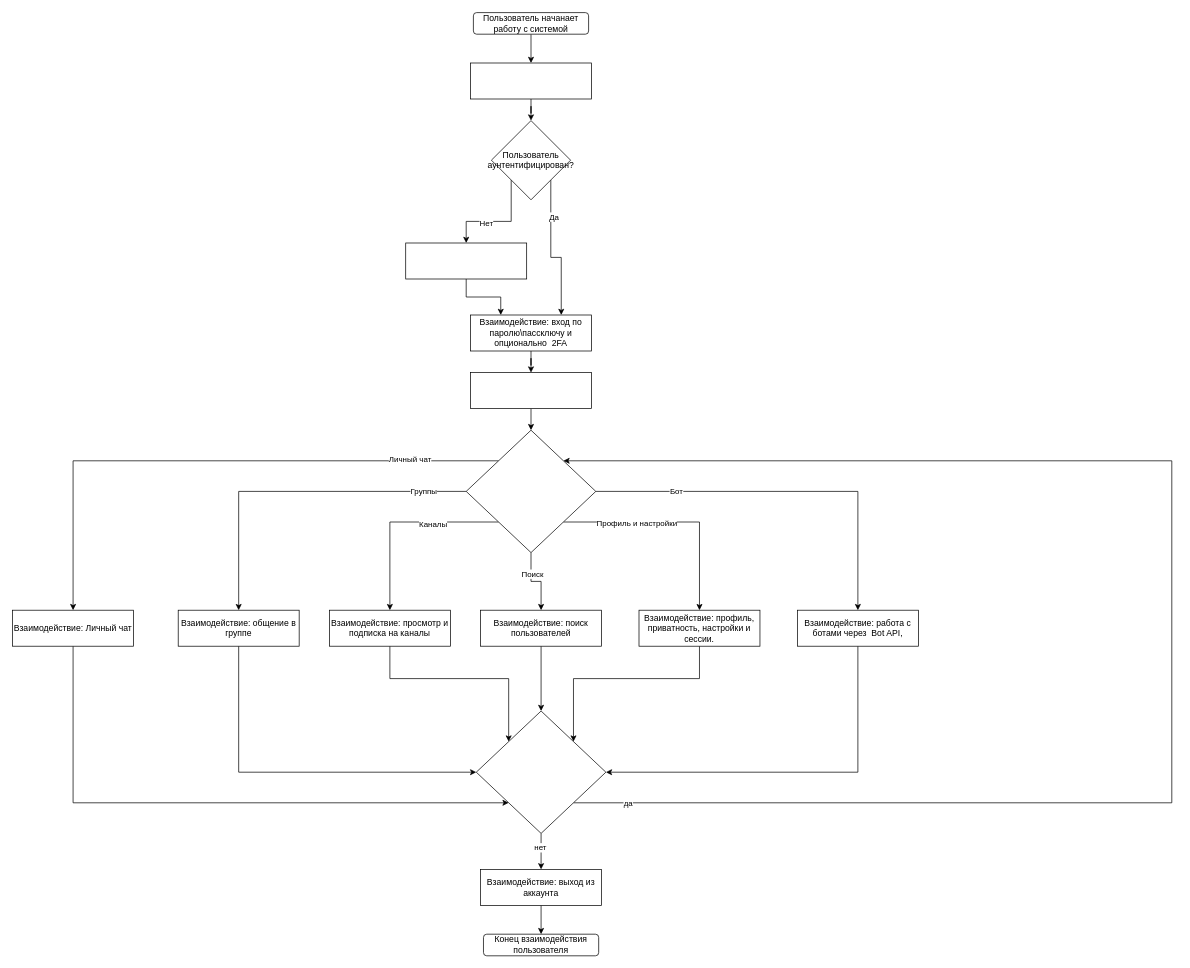
The diagram is 1190 pixels wide and 968 high, and some of its shapes have lost their labels. The shapes that lost their labels are listed below. From the top down, each one's centre as x and y in pixels, then its label:
At (x=530, y=80): "Взаимодействие: открыть веб-клиент и проверить сессию".
At (x=466, y=260): "Взаимодействие: регистрация нового аккаунта".
At (x=530, y=390): "Взаимодействие: Главный экран (чаты, группы, каналлы)".
At (x=530, y=491): "Что хочет сделать пользователь?".
At (x=541, y=771): "Продолжить использование системы?".
